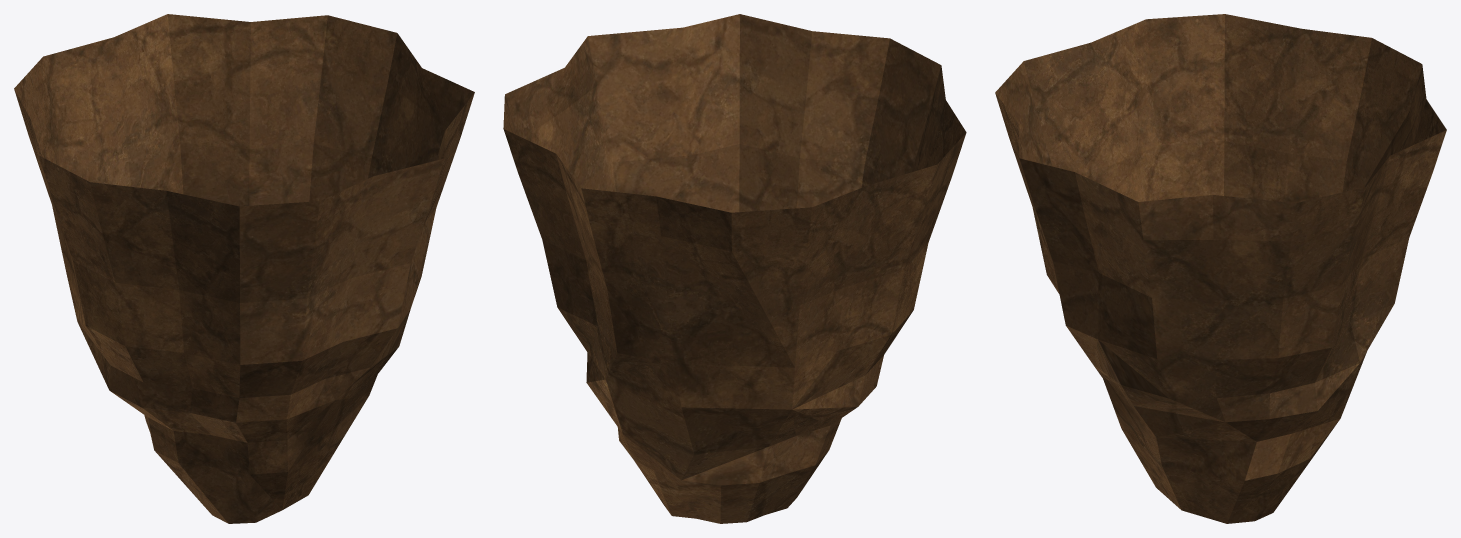
Rendered from piattaforma_scoscesa2.fbx.
3 views of the same model, side by side, from view 1: azimuth 30°, elevation 25°; view 2: azimuth 150°, elevation 25°; view 3: azimuth 270°, elevation 25° (orthographic). The views are drawn at different scales.
Parts seen in each view (by area): view 1: ground2; view 2: ground2; view 3: ground2.
Part boxes in pixels (x1,y1,x2,y2): ground2: [14, 14, 474, 523]; ground2: [503, 14, 966, 523]; ground2: [995, 14, 1446, 523].
Size of the model in its own units: 366 by 346 by 369.
